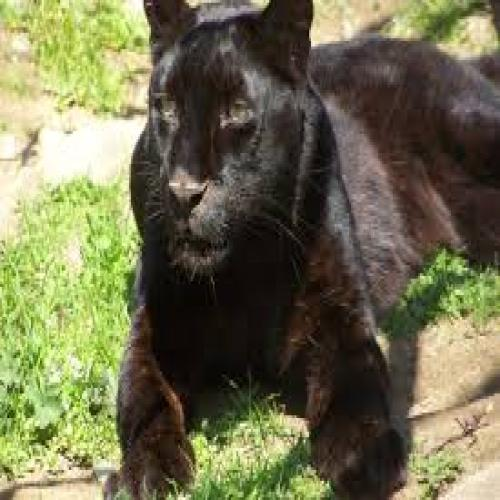panther-endangered: (114, 0, 500, 376)
